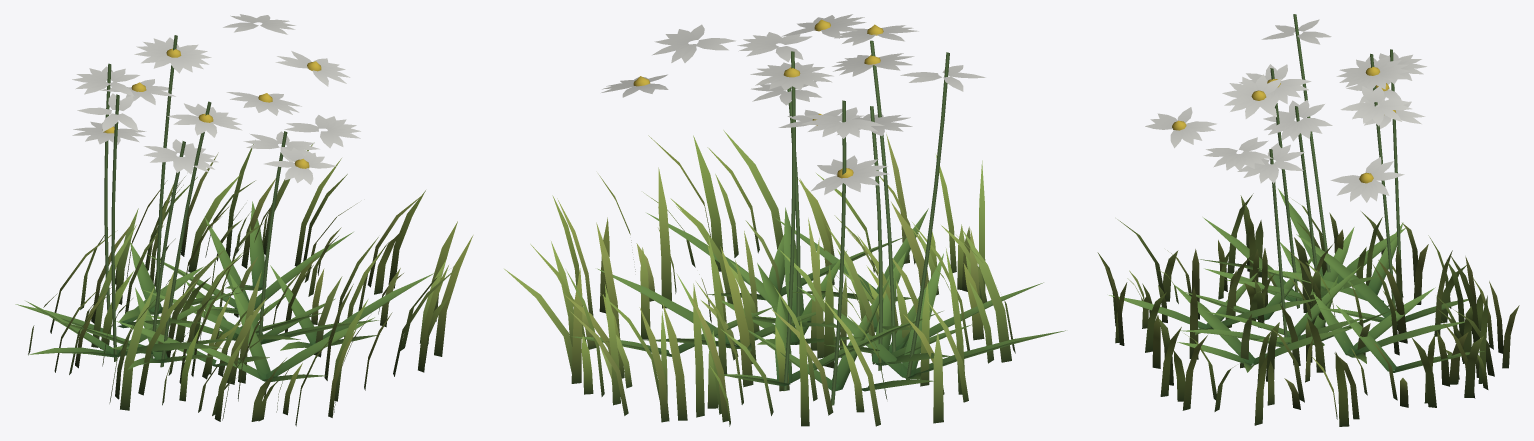
The model's file is eco_flower_daisy_clump_LOD1.glb.
The picture shows the model from 3 angles, left to right: view 1: azimuth 30°, elevation 25°; view 2: azimuth 150°, elevation 25°; view 3: azimuth 270°, elevation 25°; orthographic projection. The views are drawn at different scales.
Visible parts, largest first — view 1: eco_flower_daisy_clump_LOD1; view 2: eco_flower_daisy_clump_LOD1; view 3: eco_flower_daisy_clump_LOD1.
Part boxes in pixels (x1,y1,x2,y2): eco_flower_daisy_clump_LOD1: (15,14,473,426); eco_flower_daisy_clump_LOD1: (504,14,1065,426); eco_flower_daisy_clump_LOD1: (1097,14,1519,426).
Bounding box in the file's own units: 0.6125 × 0.3965 × 0.5455.
